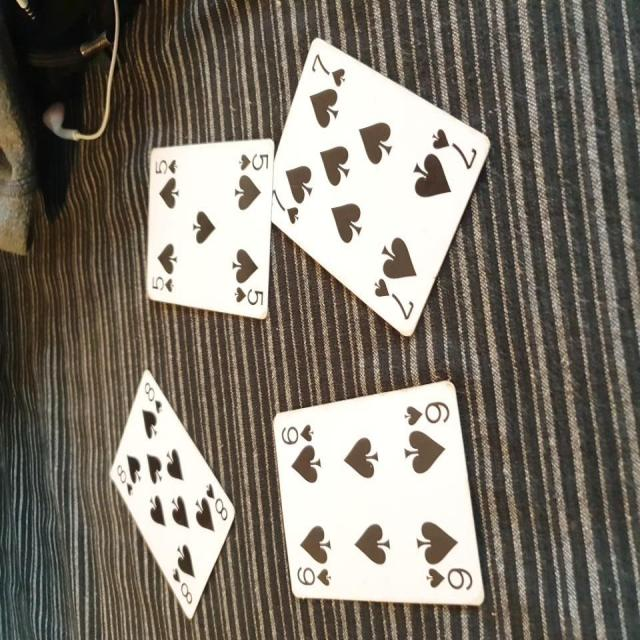5 Spades: (125, 137, 272, 327)
6 Spades: (261, 380, 502, 618)
7 Spades: (262, 37, 490, 343)
8 Spades: (98, 366, 242, 622)
